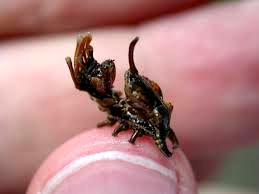Lobster Moth: (58, 26, 186, 168)
